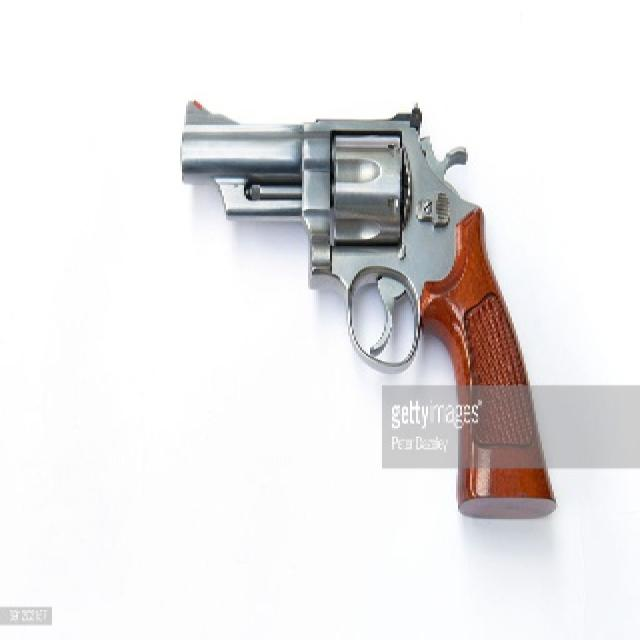handgun: (175, 94, 559, 520)
